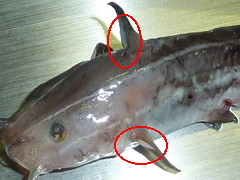gonzui: (1, 17, 240, 174)
